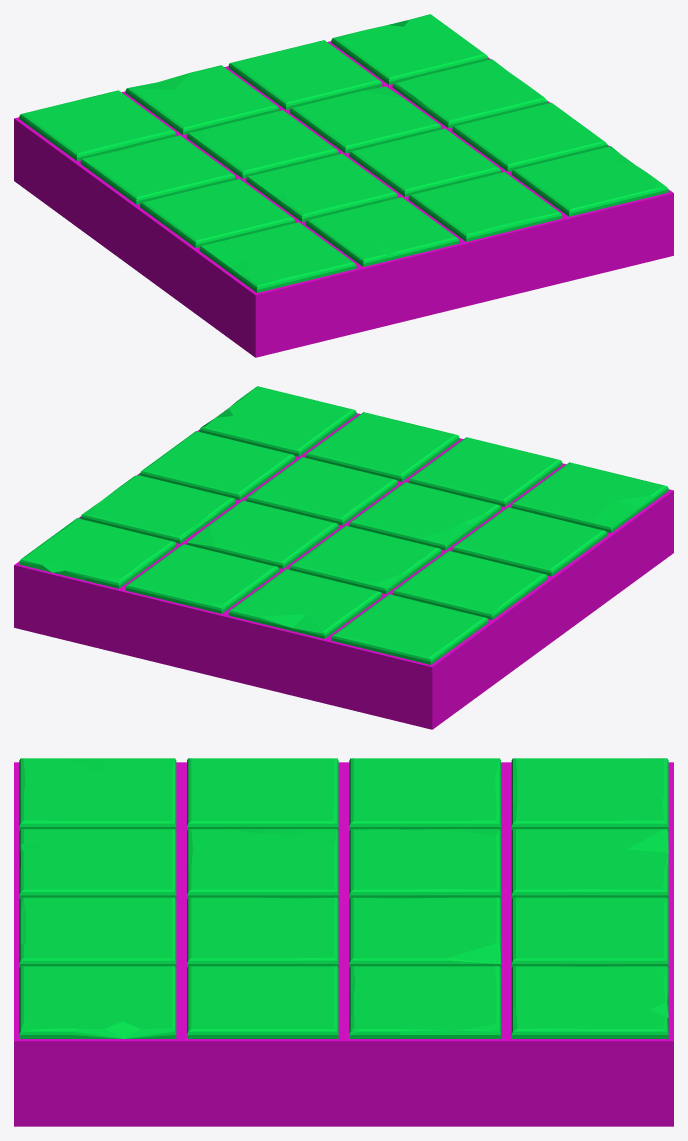
The model's file is Floor.glb.
The picture shows the model from 3 angles, top to bottom: view 1: azimuth 30°, elevation 25°; view 2: azimuth 150°, elevation 25°; view 3: azimuth 270°, elevation 25°; orthographic projection. The views are drawn at different scales.
Visible parts, largest first — view 1: BaseFloor; view 2: BaseFloor; view 3: BaseFloor.
Boxes of the visible parts, x1,y1,x2,y2 form: BaseFloor: (14,14,673,357); BaseFloor: (14,386,673,729); BaseFloor: (14,758,673,1126).
Bounding box in the file's own units: 4 × 0.6256 × 4.
